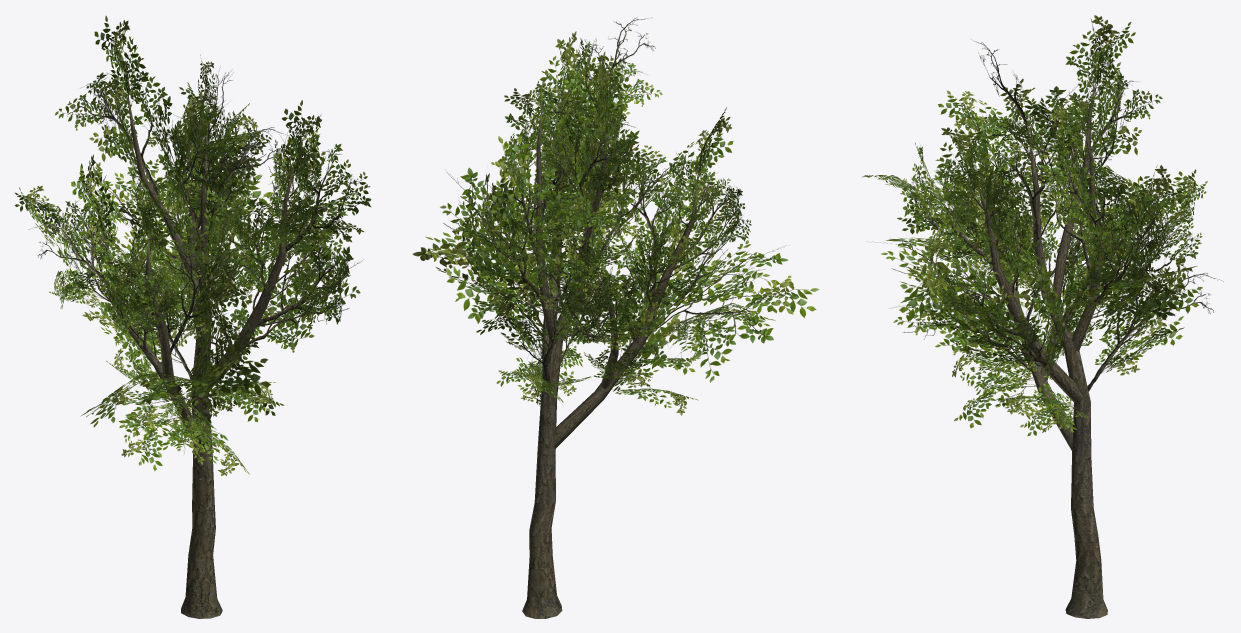
The model's file is tree1.glb.
3 views of the same model, side by side, from view 1: azimuth 30°, elevation 25°; view 2: azimuth 150°, elevation 25°; view 3: azimuth 270°, elevation 25° (orthographic). The views are drawn at different scales.
Visible parts, largest first — view 1: tree1; view 2: tree1; view 3: tree1.
Boxes of the visible parts, x1=… form: tree1: x1=14, y1=15, x2=371, y2=618; tree1: x1=412, y1=17, x2=819, y2=618; tree1: x1=862, y1=15, x2=1223, y2=618.
Bounding box in the file's own units: 4.32 × 7.65 × 4.53.
Materials: 2 (2 with a texture image).
